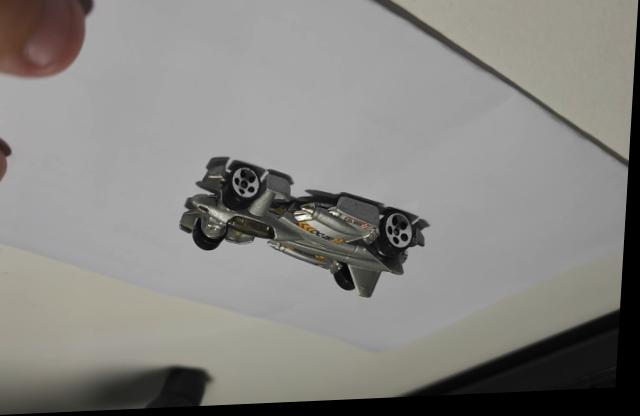05_DC121: (182, 158, 433, 300)
